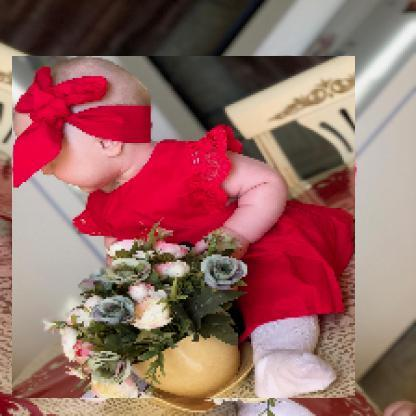child: (13, 57, 357, 400)
